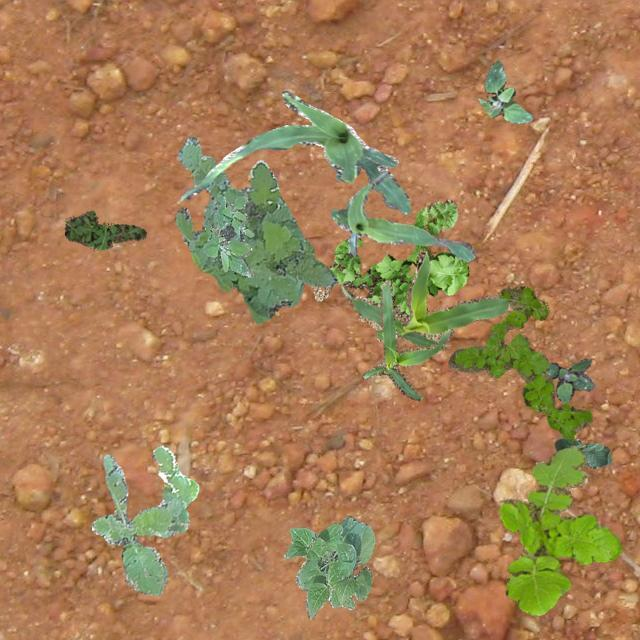crop: (180, 90, 410, 214), (341, 248, 509, 348), (330, 170, 474, 260), (360, 278, 452, 401), (282, 516, 373, 618), (554, 437, 610, 468)
weed: (174, 134, 336, 322), (446, 286, 592, 440), (498, 444, 620, 614), (310, 198, 468, 318), (90, 444, 198, 594), (202, 192, 252, 276), (478, 59, 532, 122), (64, 210, 146, 248), (546, 358, 594, 402)
